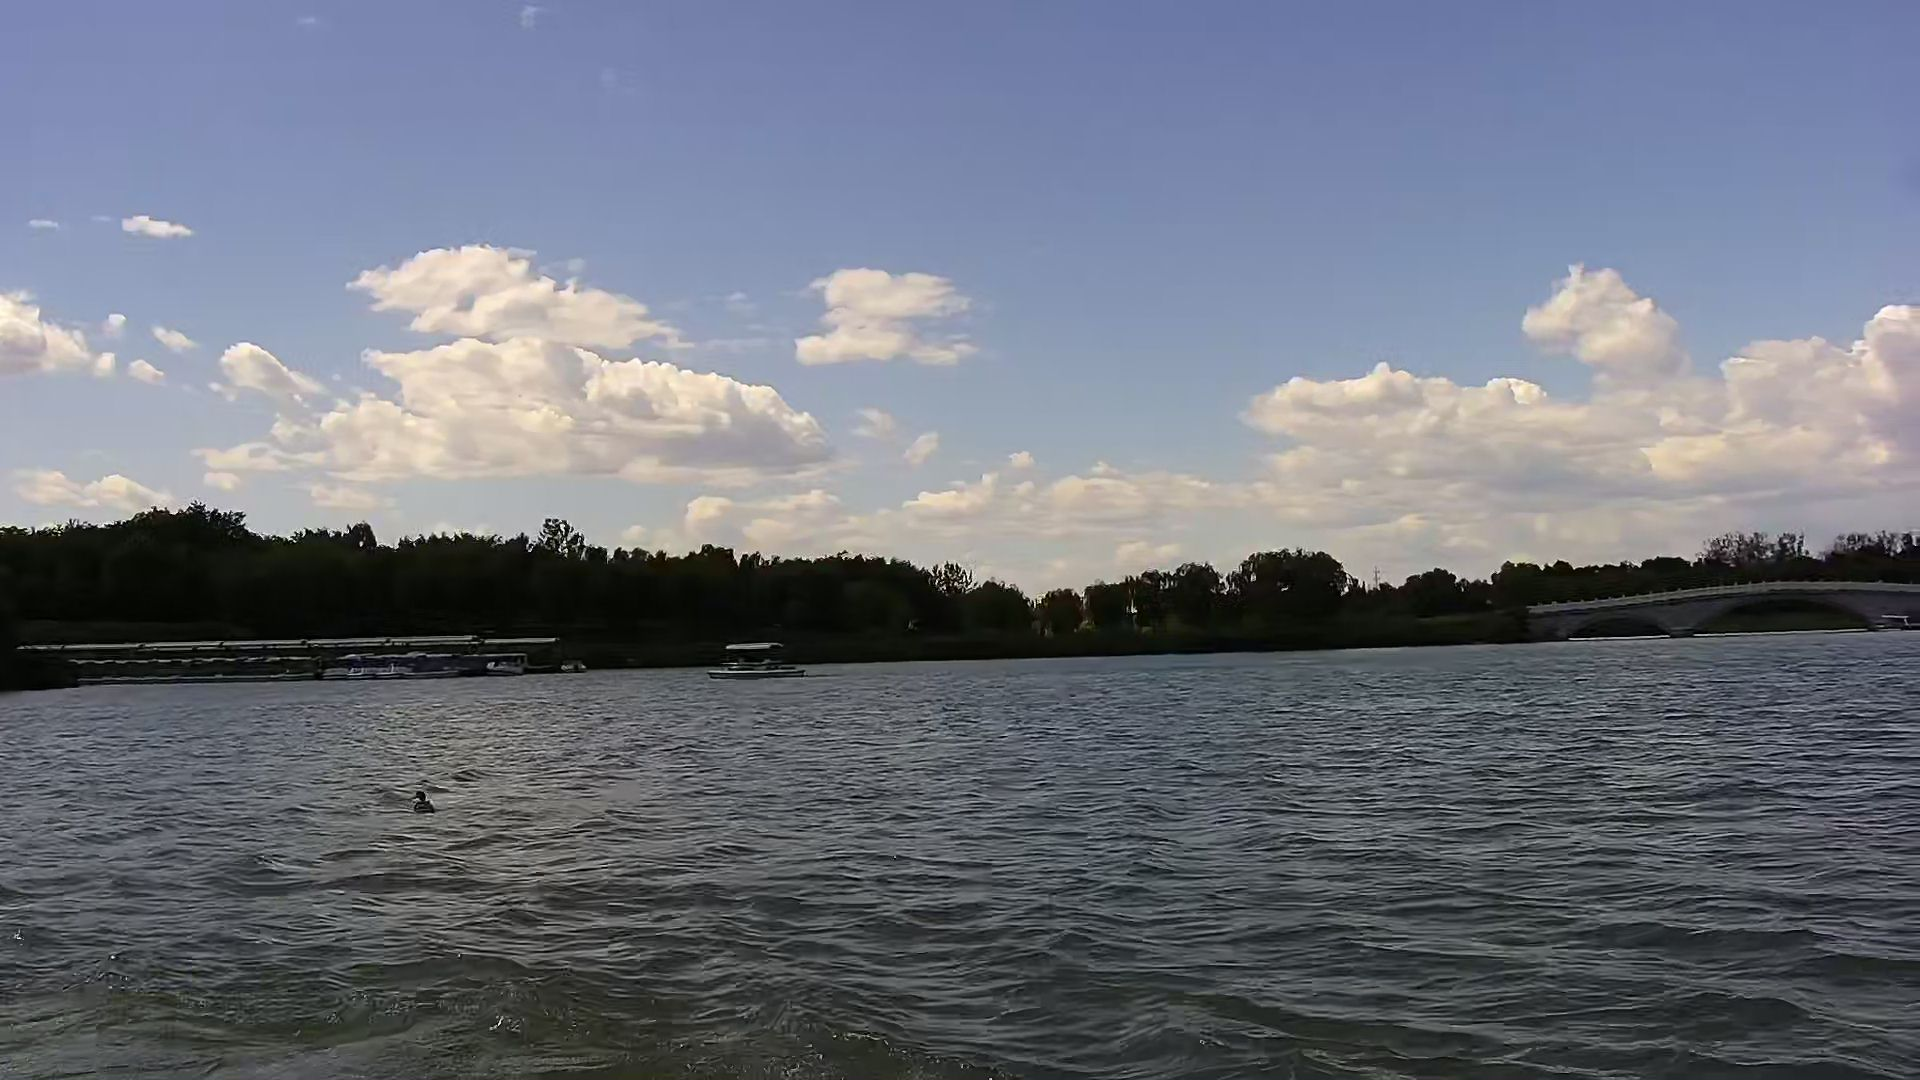animal: (400, 785, 444, 820)
boat: (702, 638, 815, 683)
bridge: (1524, 578, 1920, 644)
harbor: (26, 636, 588, 688)
